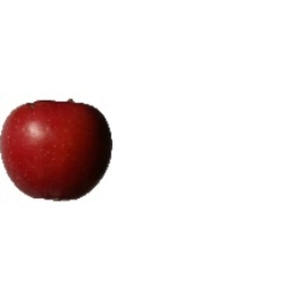maçã braeburn: (1, 97, 117, 204)
